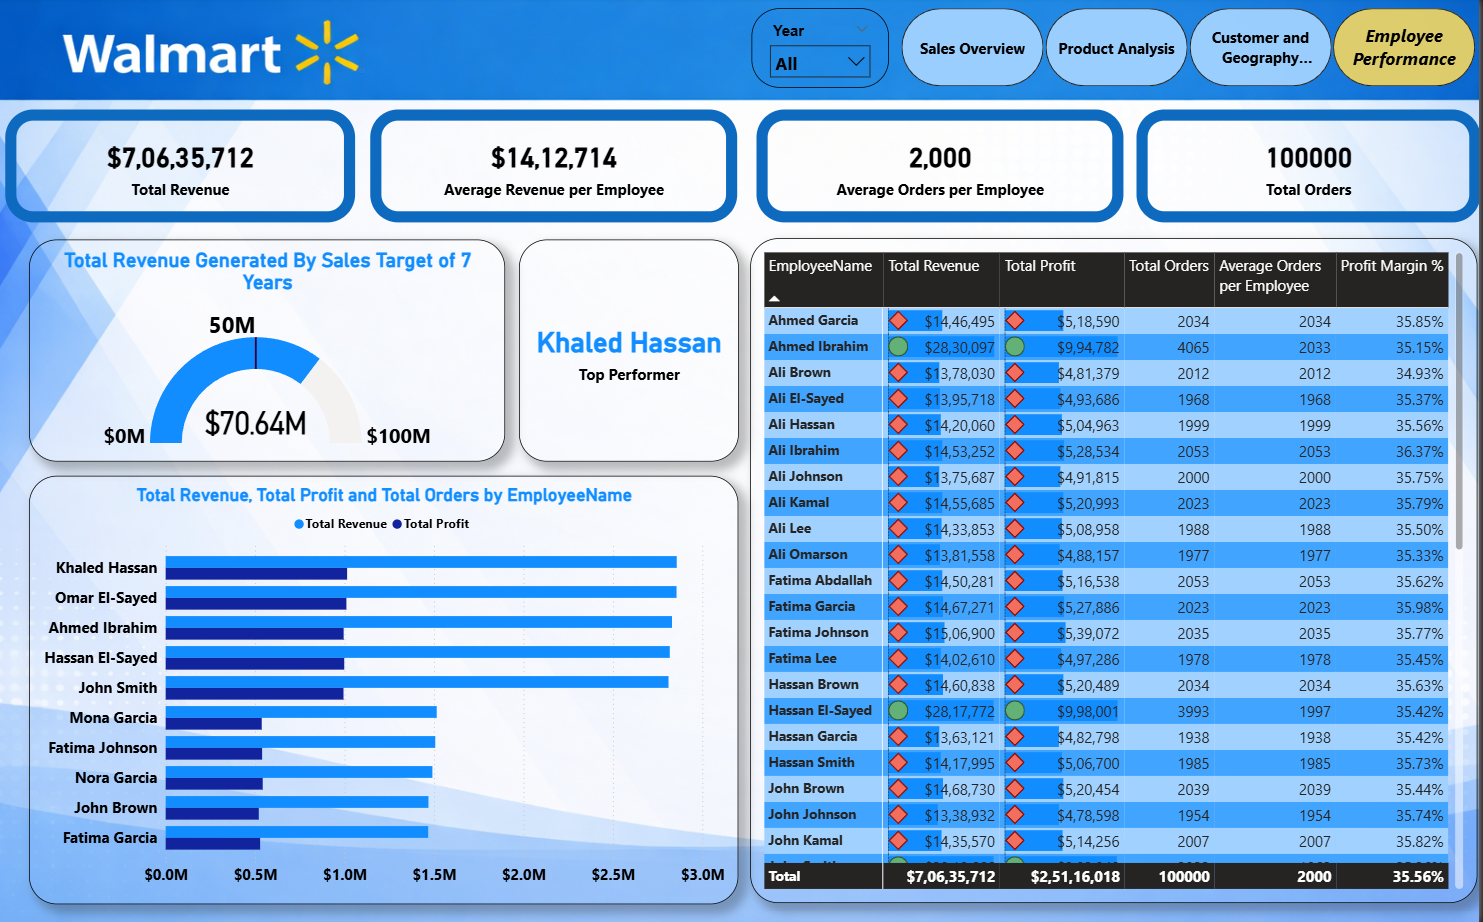

The page's visual inventory and layout, read from the dashboard file:
{"tool":"powerbi","page":{"name":"Employee Performance","canvas":[1600,1000],"ordinal":3},"visuals":[{"type":"pageNavigator","box":[977.5,12.6,620.4,84.8],"z":0,"group":"g1"},{"type":"card","fields":{"Values":["MeasureTable.Total Revenue"]},"box":[11.7,121.7,376.7,121.7],"z":0},{"type":"card","fields":{"Values":["MeasureTable.Revenue per Employee"]},"box":[405,121.7,395,121.7],"z":1000},{"type":"card","fields":{"Values":["MeasureTable.Orders per Employee"]},"box":[821.7,121.7,395,121.7],"z":2000},{"type":"card","fields":{"Values":["MeasureTable.Total Orders"]},"box":[1230,121.7,370,121.7],"z":3000},{"type":"gauge","fields":{"TargetValue":["MeasureTable.Sales Target"],"Y":["MeasureTable.Total Revenue"]},"box":[38.3,260.9,512.7,239],"z":4000},{"type":"clusteredBarChart","fields":{"Category":["DimEmployee.EmployeeName"],"Y":["MeasureTable.Total Revenue","MeasureTable.Total Profit"]},"box":[37.5,515.4,764,461.4],"z":5000},{"type":"slicer","fields":{"Values":["DimDate.Year"]},"box":[816,13.3,148,85.4],"z":6000,"group":"g1"},{"type":"pivotTable","fields":{"Rows":["DimEmployee.EmployeeName"],"Values":["MeasureTable.Total Revenue","MeasureTable.Total Profit","MeasureTable.Total Orders","MeasureTable.Orders per Employee","MeasureTable.Profit Margin %"]},"box":[814.3,260.3,783.1,716.4],"z":6002},{"type":"card","fields":{"Values":["MeasureTable.Top Performer"]},"box":[565.6,260.9,237.2,239],"z":6003},{"type":"group","id":"g1","title":"Group 1","box":[816,12.6,781.9,86],"z":6004}]}

Visuals, with their boxes in screenshot pixels (x1, y1, x2, y2), scaled from the page's 1600x1000 canvas onto the 1483x922 screenshot:
pageNavigator: box(906, 12, 1481, 90)
card - MeasureTable.Total Revenue: box(11, 112, 360, 224)
card - MeasureTable.Revenue per Employee: box(375, 112, 742, 224)
card - MeasureTable.Orders per Employee: box(762, 112, 1128, 224)
card - MeasureTable.Total Orders: box(1140, 112, 1482, 224)
gauge - MeasureTable.Sales Target x MeasureTable.Total Revenue: box(35, 241, 511, 461)
clusteredBarChart - DimEmployee.EmployeeName x MeasureTable.Total Revenue: box(35, 475, 743, 901)
slicer - DimDate.Year: box(756, 12, 894, 91)
pivotTable - DimEmployee.EmployeeName x MeasureTable.Total Revenue: box(755, 240, 1481, 901)
card - MeasureTable.Top Performer: box(524, 241, 744, 461)
"Group 1" group: box(756, 12, 1481, 91)
